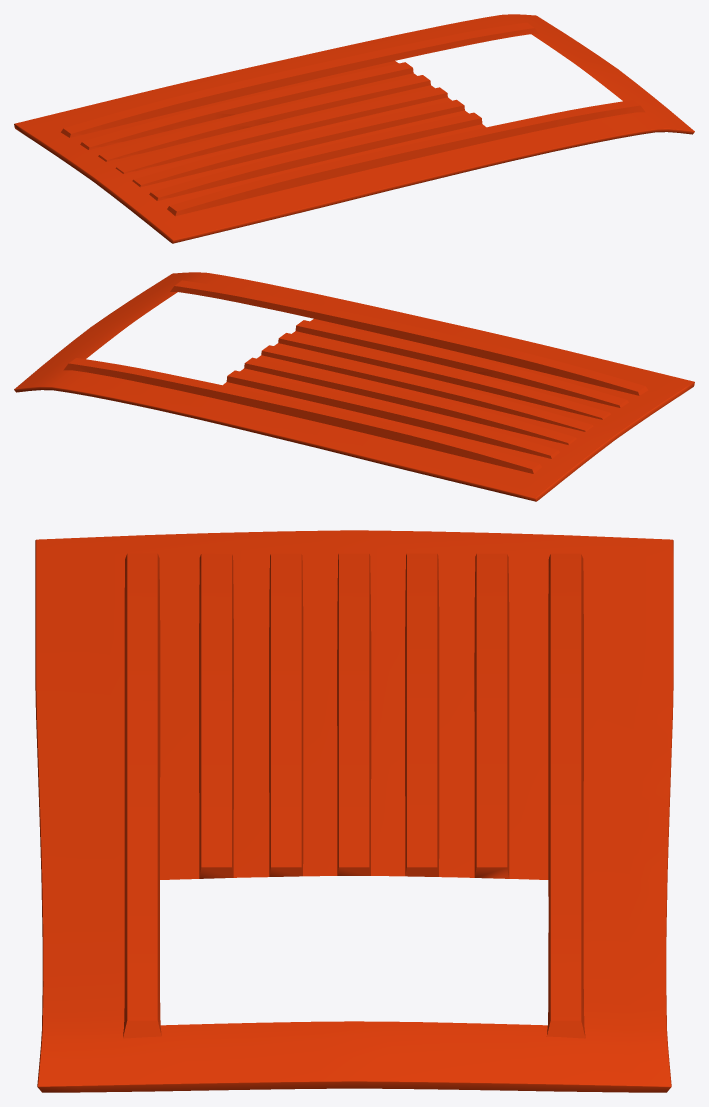
3 views of the same model, one above another, from view 1: azimuth 30°, elevation 25°; view 2: azimuth 150°, elevation 25°; view 3: azimuth 270°, elevation 25° (orthographic). The views are drawn at different scales.
Visible parts, largest first — view 1: U843_9A_341B_C_1_DaS_U843_9A_341B_C, U843_9A_341B_C_1_DaS_U843_9A_341B_C_E; view 2: U843_9A_341B_C_1_DaS_U843_9A_341B_C, U843_9A_341B_C_1_DaS_U843_9A_341B_C_E; view 3: U843_9A_341B_C_1_DaS_U843_9A_341B_C, U843_9A_341B_C_1_DaS_U843_9A_341B_C_E.
Boxes of the visible parts, <box> form: U843_9A_341B_C_1_DaS_U843_9A_341B_C: <box>15,14,694,239</box>; U843_9A_341B_C_1_DaS_U843_9A_341B_C_E: <box>14,28,694,243</box>; U843_9A_341B_C_1_DaS_U843_9A_341B_C: <box>14,272,693,497</box>; U843_9A_341B_C_1_DaS_U843_9A_341B_C_E: <box>14,286,694,501</box>; U843_9A_341B_C_1_DaS_U843_9A_341B_C: <box>36,530,672,1086</box>; U843_9A_341B_C_1_DaS_U843_9A_341B_C_E: <box>35,540,673,1092</box>.
Size of the model in its own units: 213 by 12.53 by 112.
